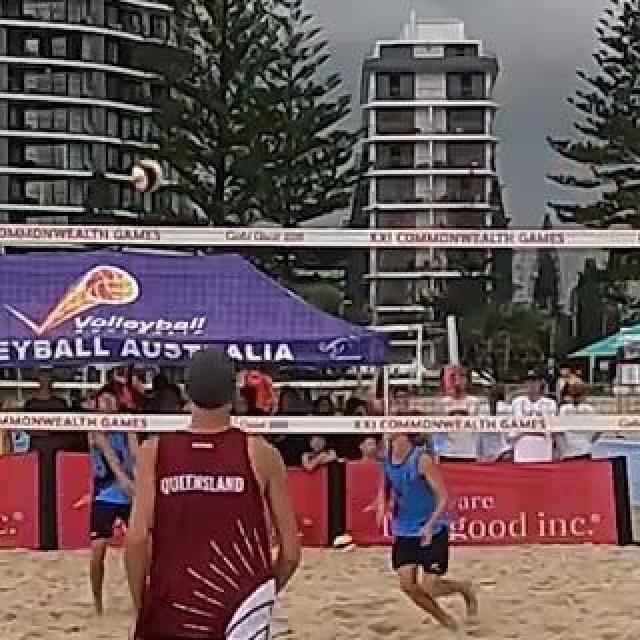volleyball: (131, 161, 161, 193), (334, 533, 356, 555)
